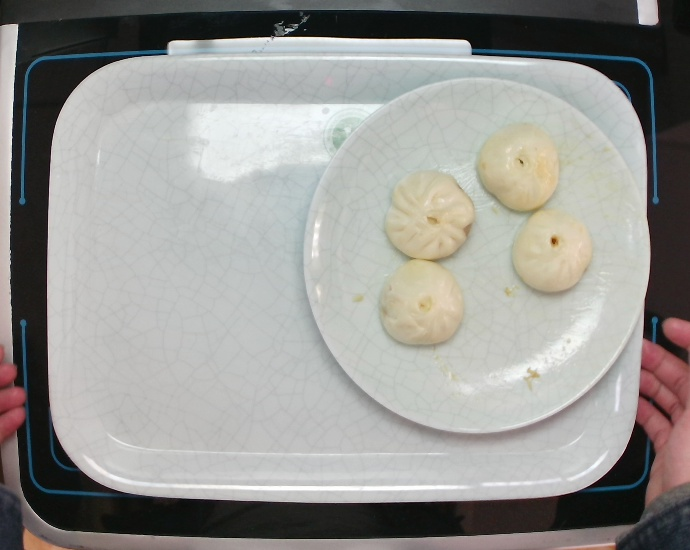JYsf-Da_Yuan_Pan: (300, 73, 657, 435)
